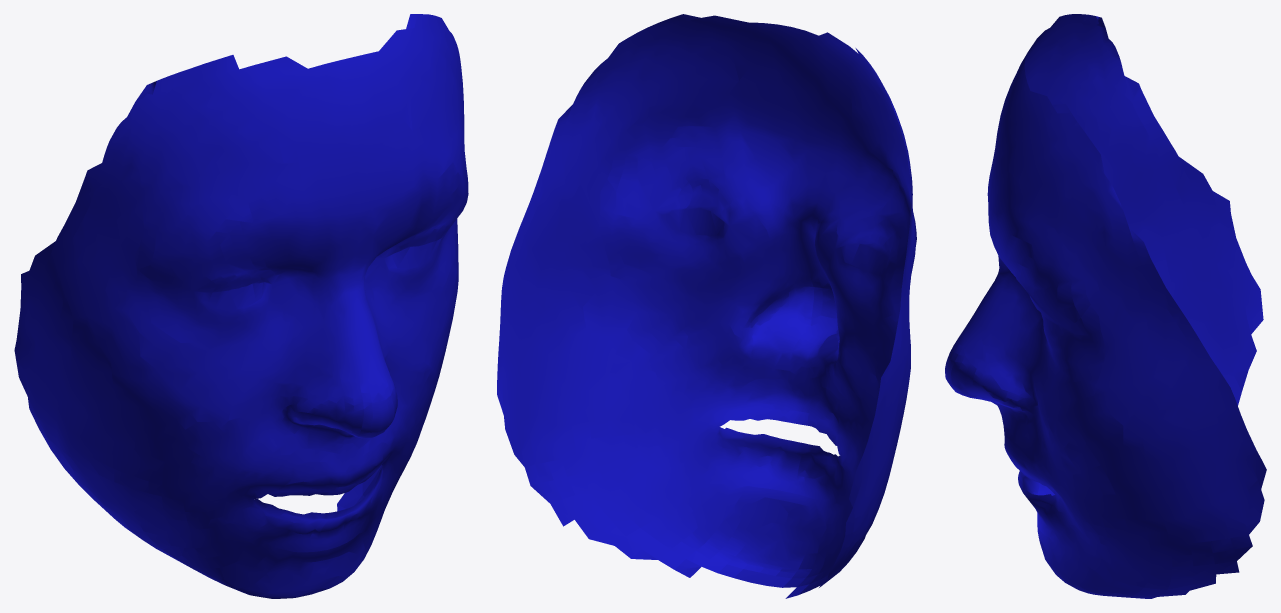
The model's file is deformed_mesh.obj.
3 renders of one model, left to right at view 1: azimuth 30°, elevation 25°; view 2: azimuth 150°, elevation 25°; view 3: azimuth 270°, elevation 25°, orthographic. The views are drawn at different scales.
Size of the model in its own units: 0.0596 by 0.0799 by 0.044.
